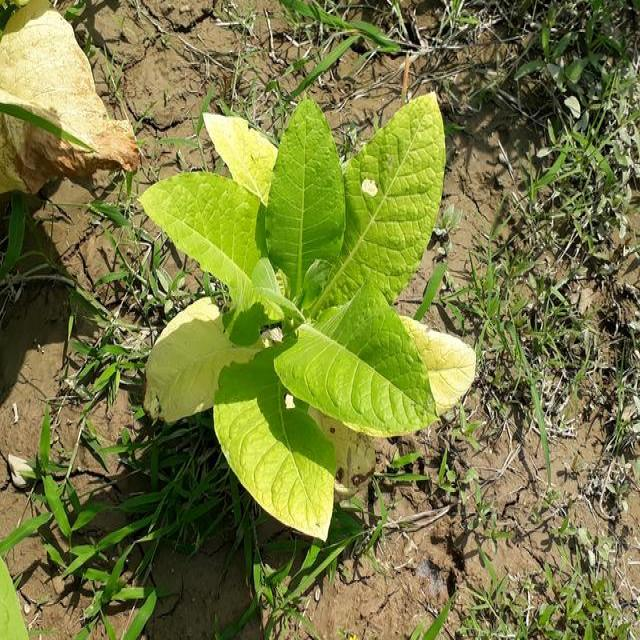crop: (138, 89, 479, 552)
